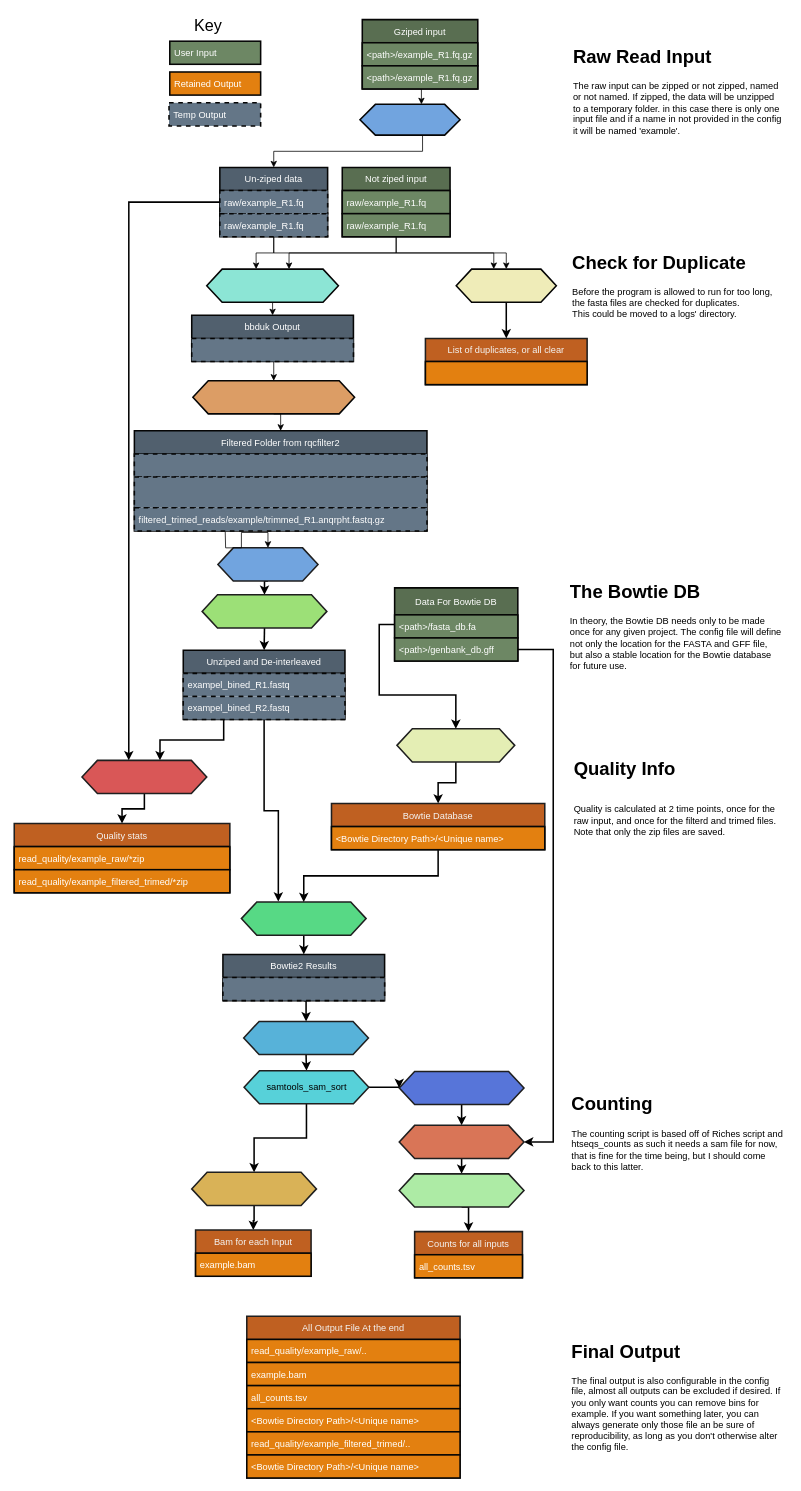
Image size: 801x1491. Some labels were removed from this diagram. The shapes that lost their labels are listed below. From the top down, each one's centre as x and y in pixels, then its label:
At [409,119]: "unzip_file 1".
At [272,285]: "bbduk_trim_reads".
At [506,285]: "check_dups_fasta".
At [272,349]: "trimmed_reads/example/".
At [506,372]: "duplicate_names_note.txt".
At [273,397]: "rqcfilter2_filter_reads".
At [280,465]: "filtered_trimed_reads/example/..".
At [280,492]: "filtered_trimed_reads/example/RNA.fq.gz".
At [267,564]: "unzip_file 2".
At [264,611]: "deinterleave_fastq".
At [455,745]: "bowtie2_build_database".
At [144,776]: "fastqc_get_quality".
At [303,918]: "bowtie2_map".
At [303,988]: "results/bowtie2/example.sam".
At [306,1037]: "reformat_sam".
At [461,1087]: "rich_script_sam_file".
At [461,1141]: "counting".
At [254,1188]: "samtools_sam_to_bam".
At [461,1190]: "join_counting".
